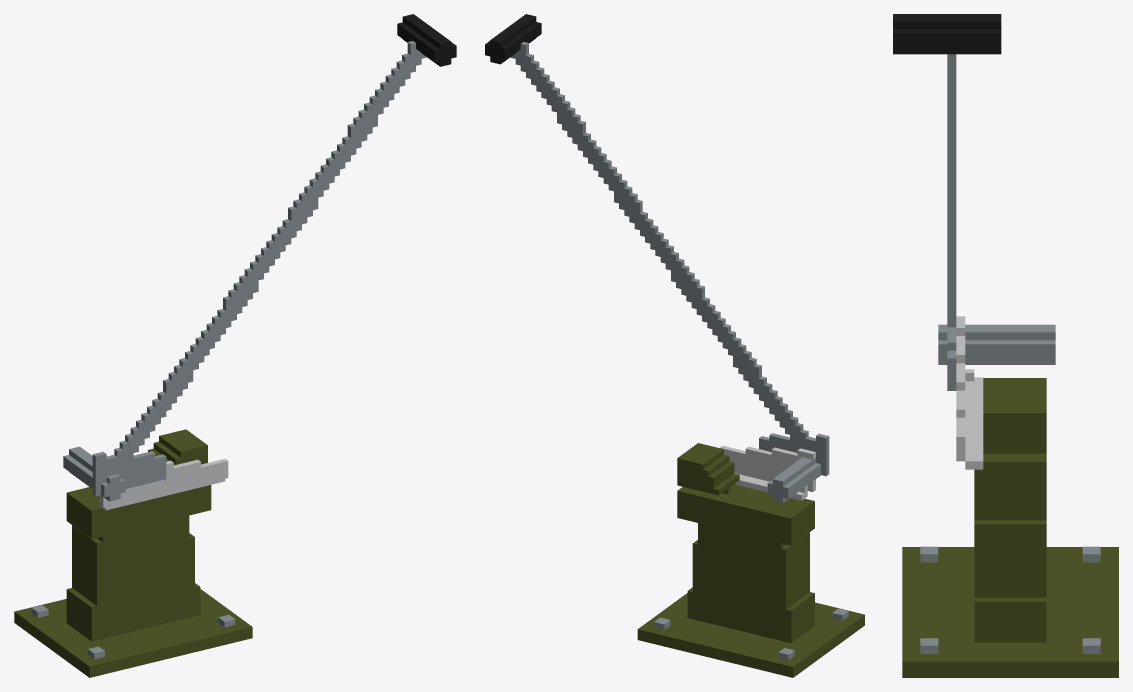
The model's file is beverly_shear.glb.
The picture shows the model from 3 angles, left to right: view 1: azimuth 30°, elevation 25°; view 2: azimuth 150°, elevation 25°; view 3: azimuth 270°, elevation 25°; orthographic projection. The views are drawn at different scales.
Parts seen in each view (by area): view 1: beverly_shear:compound; view 2: beverly_shear:compound; view 3: beverly_shear:compound.
Boxes of the visible parts, left/top/right/bottom form: beverly_shear:compound: left=14, top=14, right=456, bottom=677; beverly_shear:compound: left=485, top=14, right=864, bottom=677; beverly_shear:compound: left=893, top=14, right=1118, bottom=677.
Bounding box in the file's own units: 0.67 × 0.97 × 0.25.
